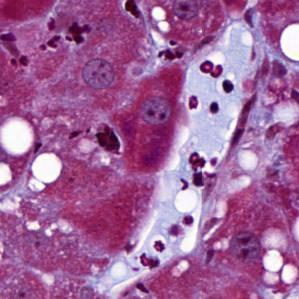inflammation: (91, 117, 128, 156), (90, 121, 125, 157), (62, 19, 91, 44)
